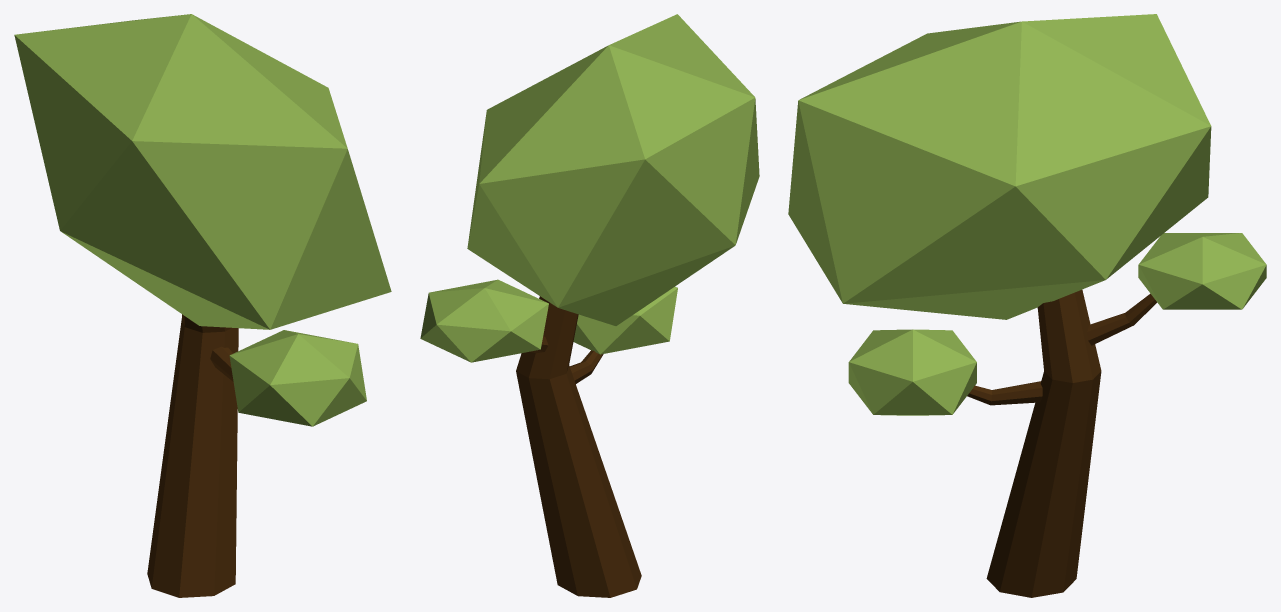
File: tree003.fbx
The picture shows the model from 3 angles, left to right: view 1: azimuth 30°, elevation 25°; view 2: azimuth 150°, elevation 25°; view 3: azimuth 270°, elevation 25°; orthographic projection. The views are drawn at different scales.
Parts seen in each view (by area): view 1: Cylinder.007; view 2: Cylinder.007; view 3: Cylinder.007.
Part boxes in pixels (bbox=[...]): Cylinder.007: bbox=[14, 14, 391, 597]; Cylinder.007: bbox=[420, 14, 759, 597]; Cylinder.007: bbox=[788, 14, 1266, 597].
Size of the model in its own units: 526 by 1072 by 837.
